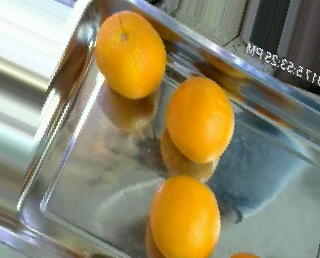Orange: (96, 9, 166, 99), (147, 174, 220, 257), (166, 76, 235, 163)
